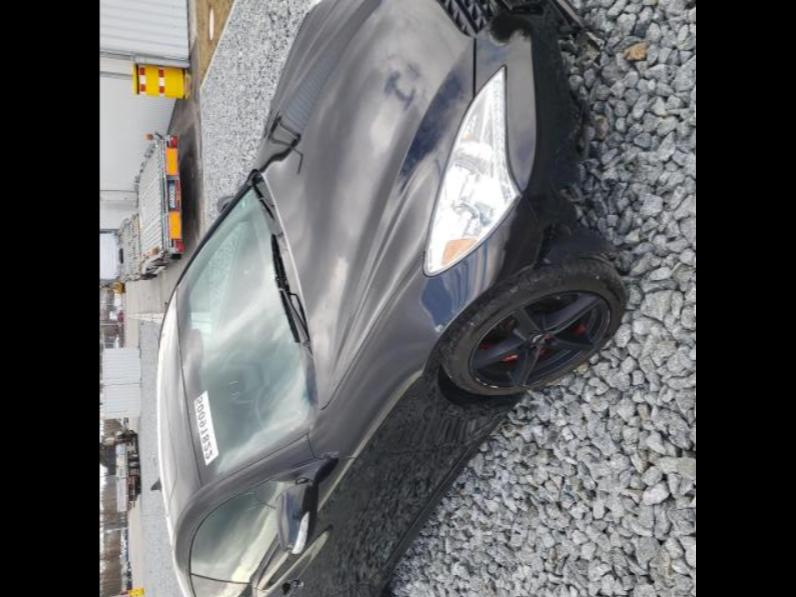Broken part: (437, 0, 606, 268)
Scratch: (436, 324, 446, 332)
